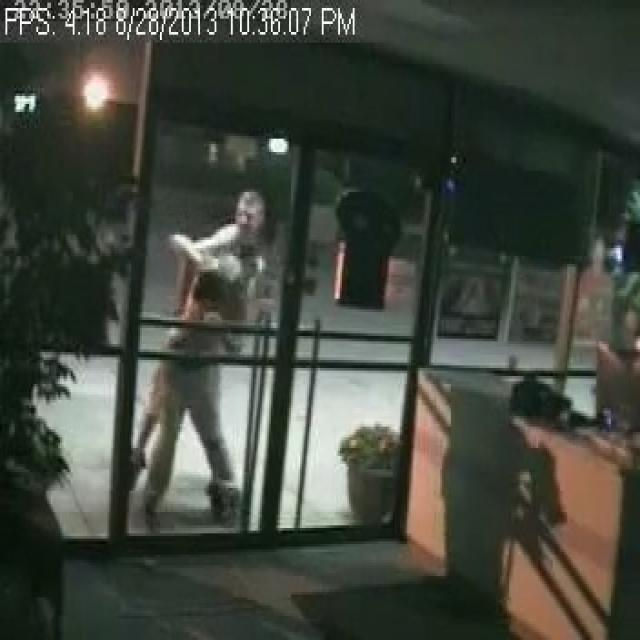fight: (142, 146, 290, 515)
